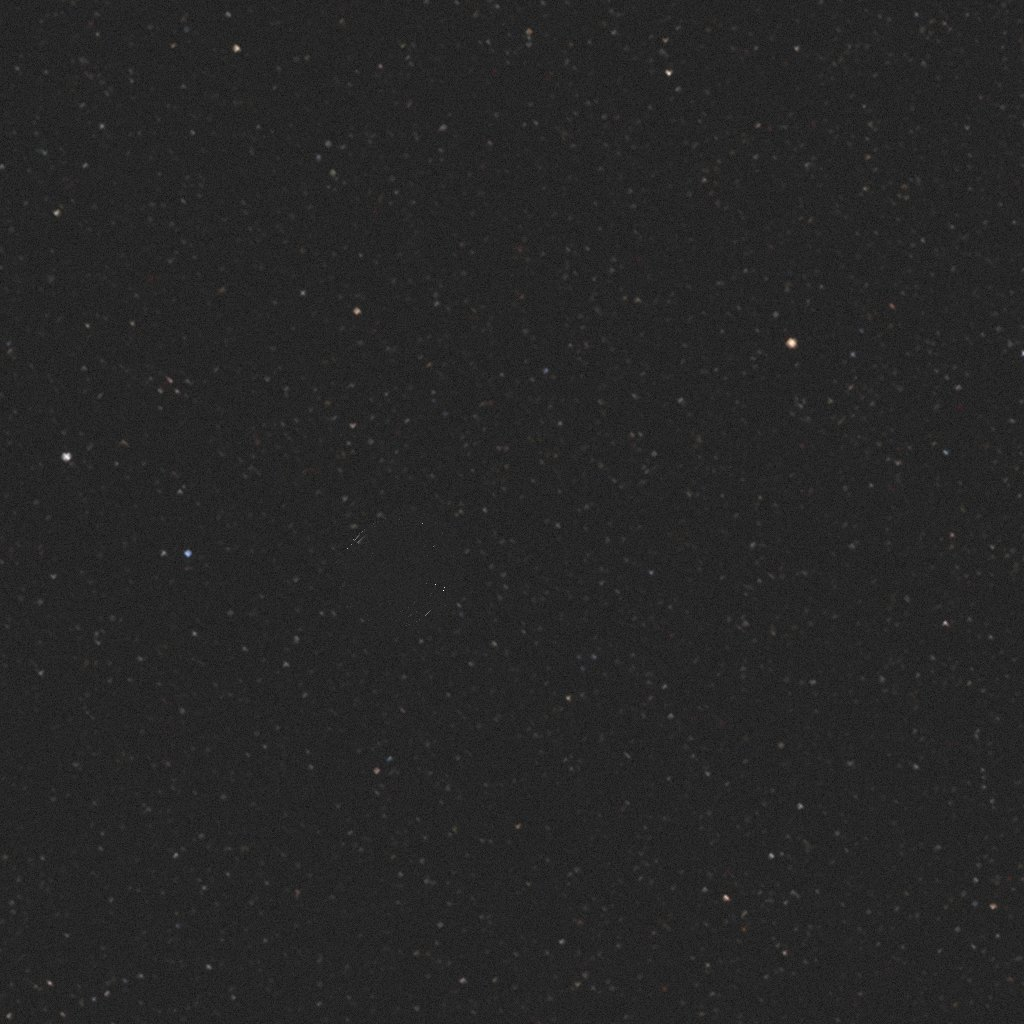debris: (326, 511, 464, 637)
